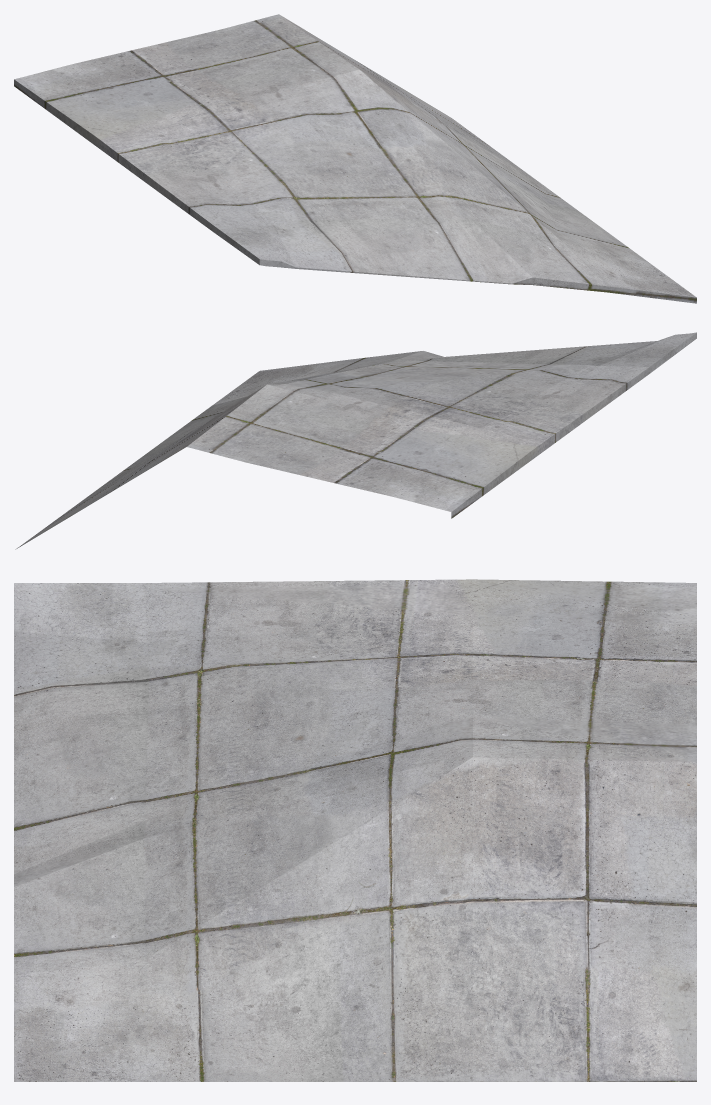
The model's file is double_apron_sidewalk.fbx.
3 renders of one model, top to bottom at view 1: azimuth 30°, elevation 25°; view 2: azimuth 150°, elevation 25°; view 3: azimuth 270°, elevation 25°, orthographic. The views are drawn at different scales.
Visible parts, largest first — view 1: Plane.001; view 2: Plane.001; view 3: Plane.001.
Part boxes in pixels (left/top/right/bottom): Plane.001: left=14, top=14, right=696, bottom=303; Plane.001: left=15, top=332, right=696, bottom=549; Plane.001: left=14, top=579, right=696, bottom=1081.
Bounding box in the file's own units: 962 × 327 × 935.
